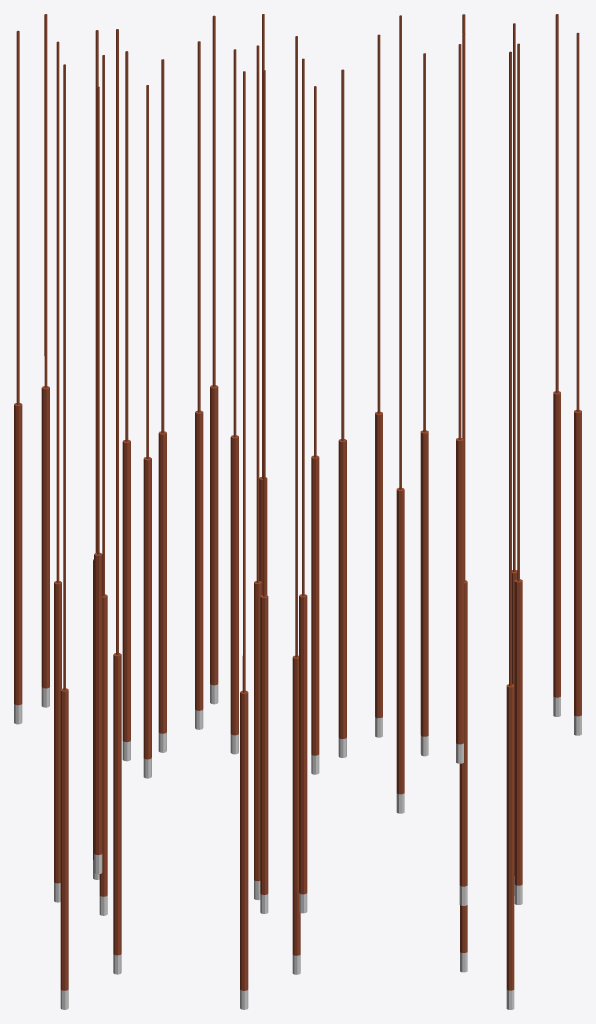
The model's file is light_stoyka.fbx.
3 views of the same model, side by side, from view 1: azimuth 30°, elevation 25°; view 2: azimuth 210°, elevation 25°; view 3: azimuth 270°, elevation 25° (orthographic). The views are drawn at different scales.
Visible parts, largest first — view 1: Cylinder.154, Cylinder.007, Cylinder.061, Cylinder.151, Cylinder.148, Cylinder.147, Cylinder.152, Cylinder.155, Cylinder.156, Cylinder.150, Cylinder.157; view 2: Cylinder.007, Cylinder.061, Cylinder.157, Cylinder.151, Cylinder.150, Cylinder.156, Cylinder.152, Cylinder.148, Cylinder.154, Cylinder.147, Cylinder.155; view 3: Cylinder.007, Cylinder.157, Cylinder.155, Cylinder.151, Cylinder.156, Cylinder.147, Cylinder.148, Cylinder.152, Cylinder.150, Cylinder.061, Cylinder.154.
Part boxes in pixels (box(x1,y1,x2,y2)): Cylinder.154: box(60, 64, 68, 1009); Cylinder.007: box(113, 29, 121, 974); Cylinder.061: box(54, 41, 61, 902); Cylinder.151: box(122, 51, 130, 761); Cylinder.148: box(14, 30, 22, 724); Cylinder.147: box(41, 14, 49, 707); Cylinder.152: box(158, 59, 166, 752); Cylinder.155: box(94, 86, 102, 874); Cylinder.156: box(143, 85, 151, 778); Cylinder.150: box(99, 55, 107, 915); Cylinder.157: box(93, 30, 99, 879); Cylinder.007: box(240, 71, 248, 1009); Cylinder.061: box(299, 58, 307, 913); Cylinder.157: box(260, 70, 268, 913); Cylinder.151: box(230, 49, 238, 754); Cylinder.150: box(254, 45, 261, 900); Cylinder.156: box(210, 15, 218, 704); Cylinder.152: box(195, 41, 203, 729); Cylinder.148: box(338, 69, 346, 757); Cylinder.154: box(292, 36, 300, 974); Cylinder.147: box(311, 86, 319, 774); Cylinder.155: box(259, 14, 267, 594); Cylinder.007: box(506, 51, 514, 1009); Cylinder.157: box(514, 43, 522, 904); Cylinder.155: box(396, 15, 404, 813); Cylinder.151: box(456, 44, 463, 763); Cylinder.156: box(375, 34, 382, 737); Cylinder.147: box(574, 32, 581, 735); Cylinder.148: box(553, 14, 560, 716); Cylinder.152: box(420, 53, 428, 756); Cylinder.150: box(459, 33, 467, 905); Cylinder.061: box(512, 23, 517, 895); Cylinder.154: box(460, 14, 467, 972).
Bounding box in the file's own units: 43.98 × 461 × 90.31.
